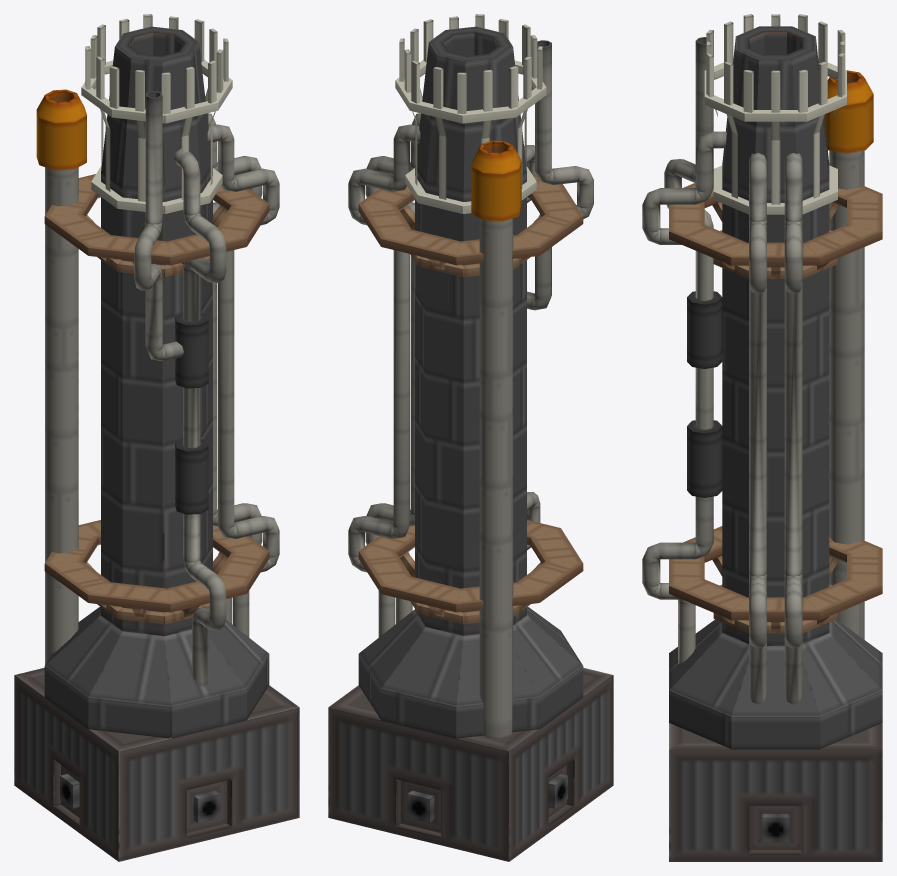
Rendered from flare_stack.obj.
3 views of the same model, side by side, from view 1: azimuth 30°, elevation 25°; view 2: azimuth 150°, elevation 25°; view 3: azimuth 270°, elevation 25° (orthographic). The views are drawn at different scales.
Visible parts, largest first — view 1: Plane; view 2: Plane; view 3: Plane.
Part boxes in pixels (bbox=[...]): Plane: bbox=[14, 14, 299, 861]; Plane: bbox=[328, 14, 613, 861]; Plane: bbox=[642, 14, 882, 861].
Size of the model in its own units: 3.38 by 12 by 3.38.
